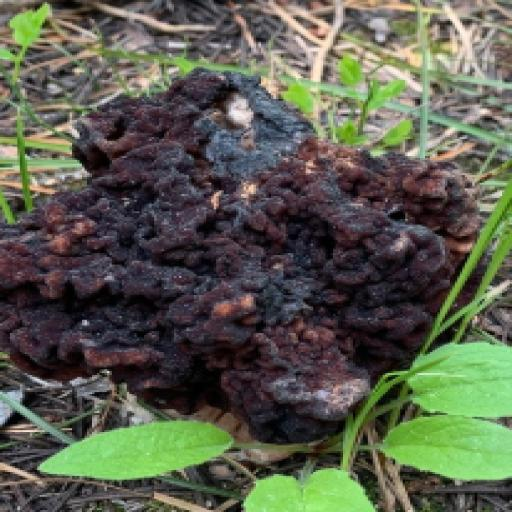False Morel: (0, 46, 484, 467)
